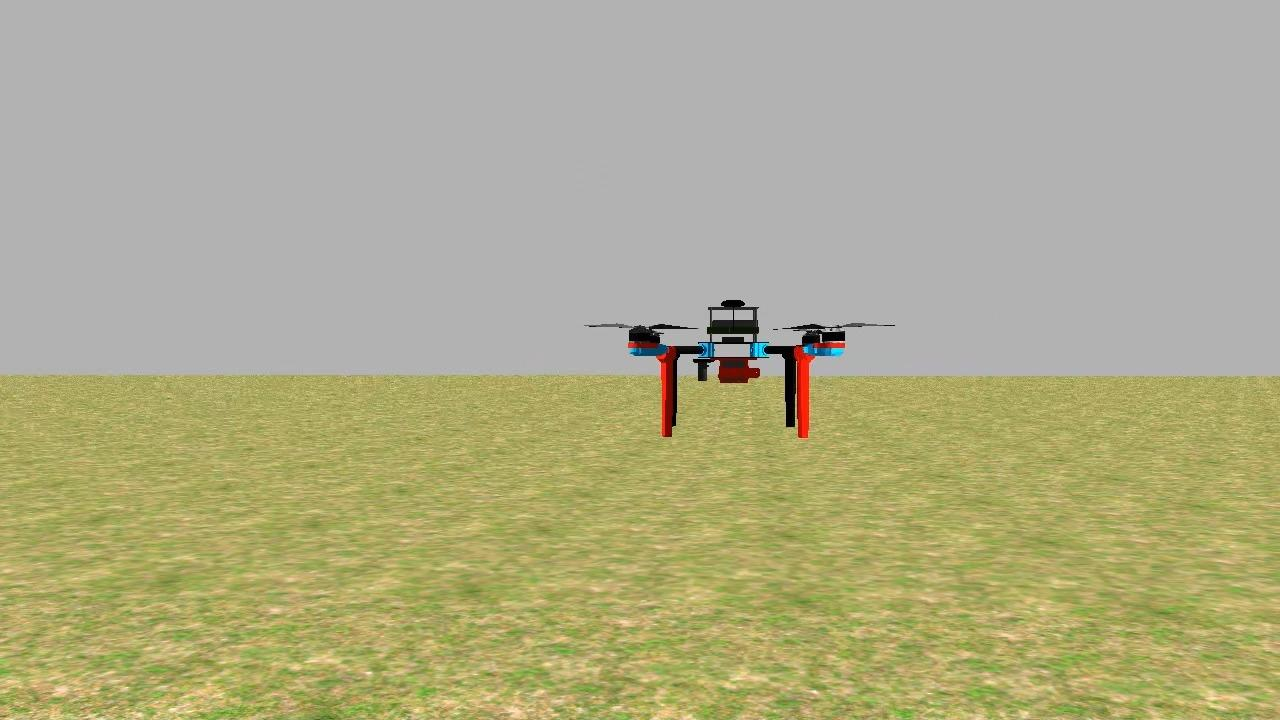UAV: (612, 294, 858, 449)
